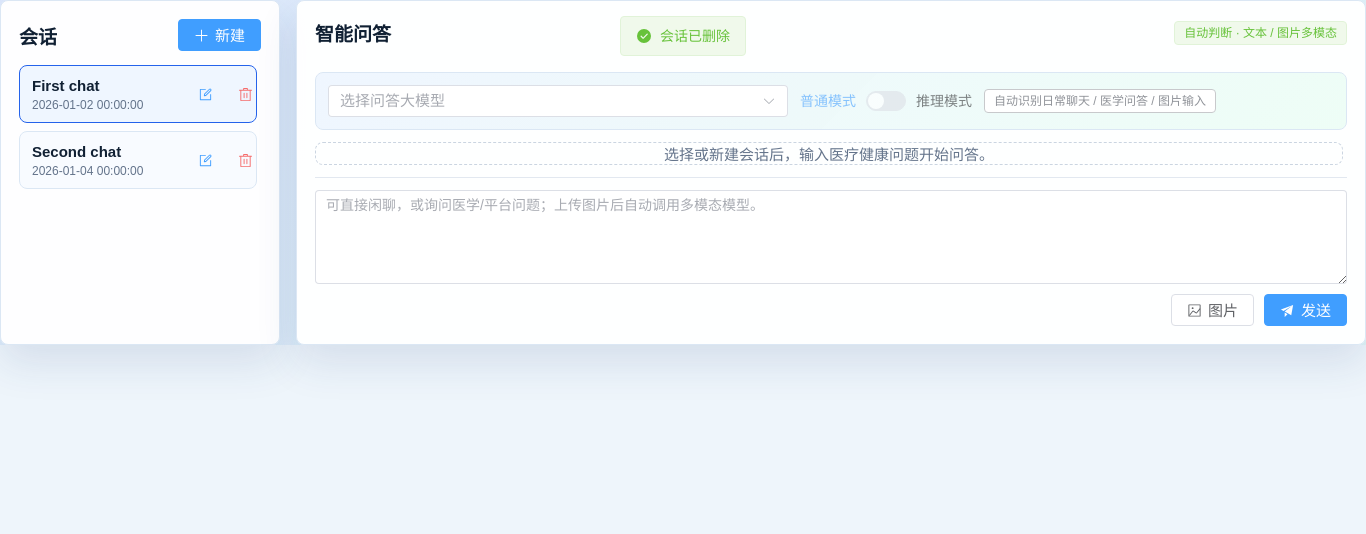
Test: KnowledgeChat › streams answers with automatic mode routing
Type "糖尿病有哪些症状？" into the text box with placeholder "可直接闲聊，或询问医学/平台问题；上传图片后自动调用多模态模型。".
click(831, 237); type("糖尿病有哪些症状？")  # box [315,190,1347,284]
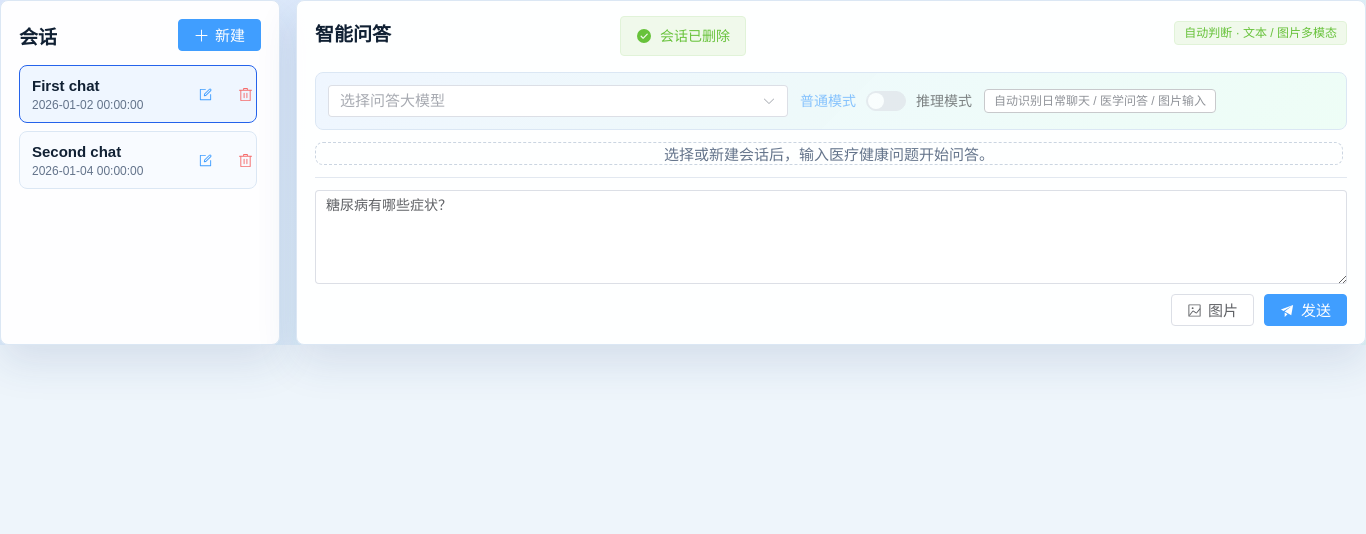
Click the button "发送".
click(1306, 310)  # box [1264,294,1347,326]
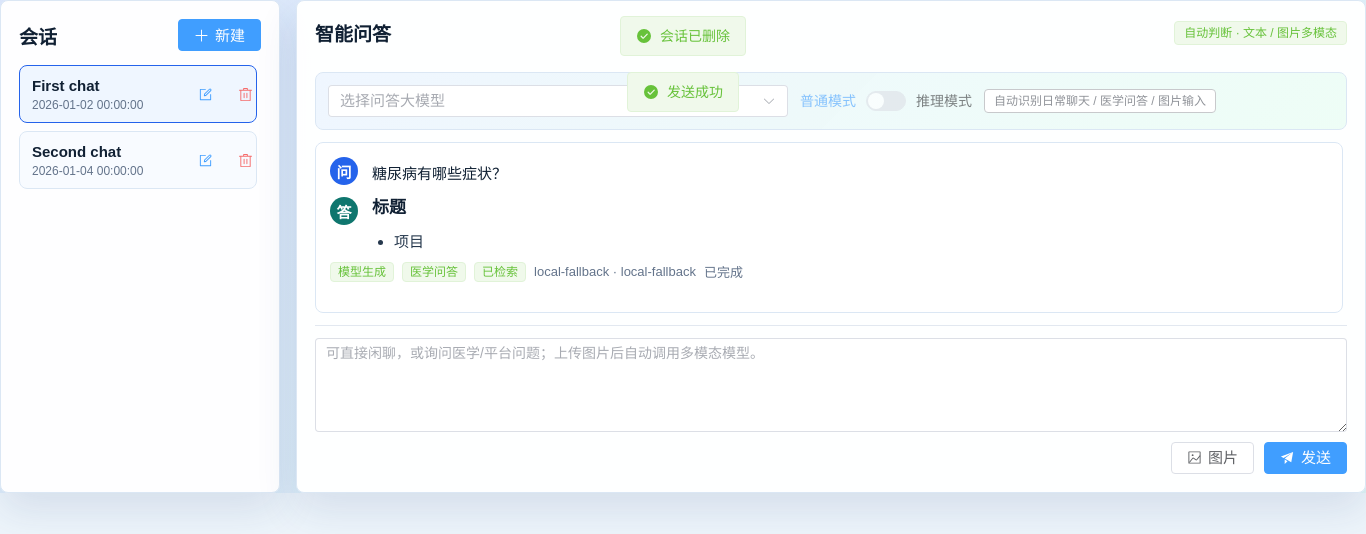
Result: the element with class "markdown-body" is shown at [372,198,424,250]
